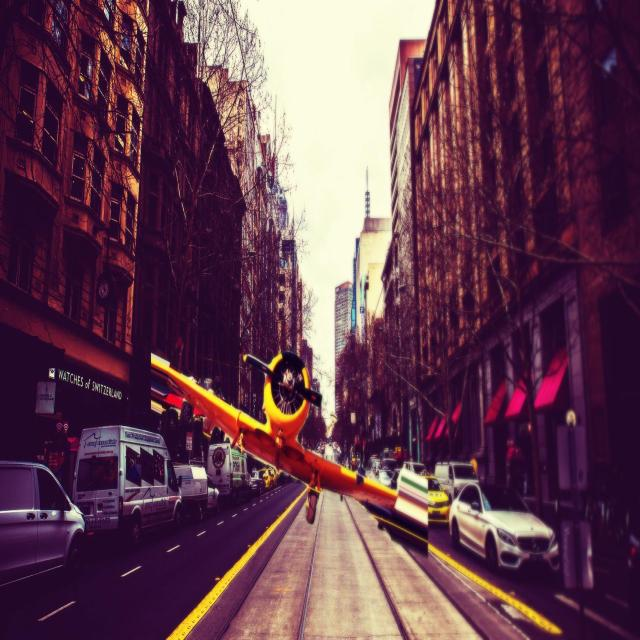airplane: (150, 348, 431, 534)
